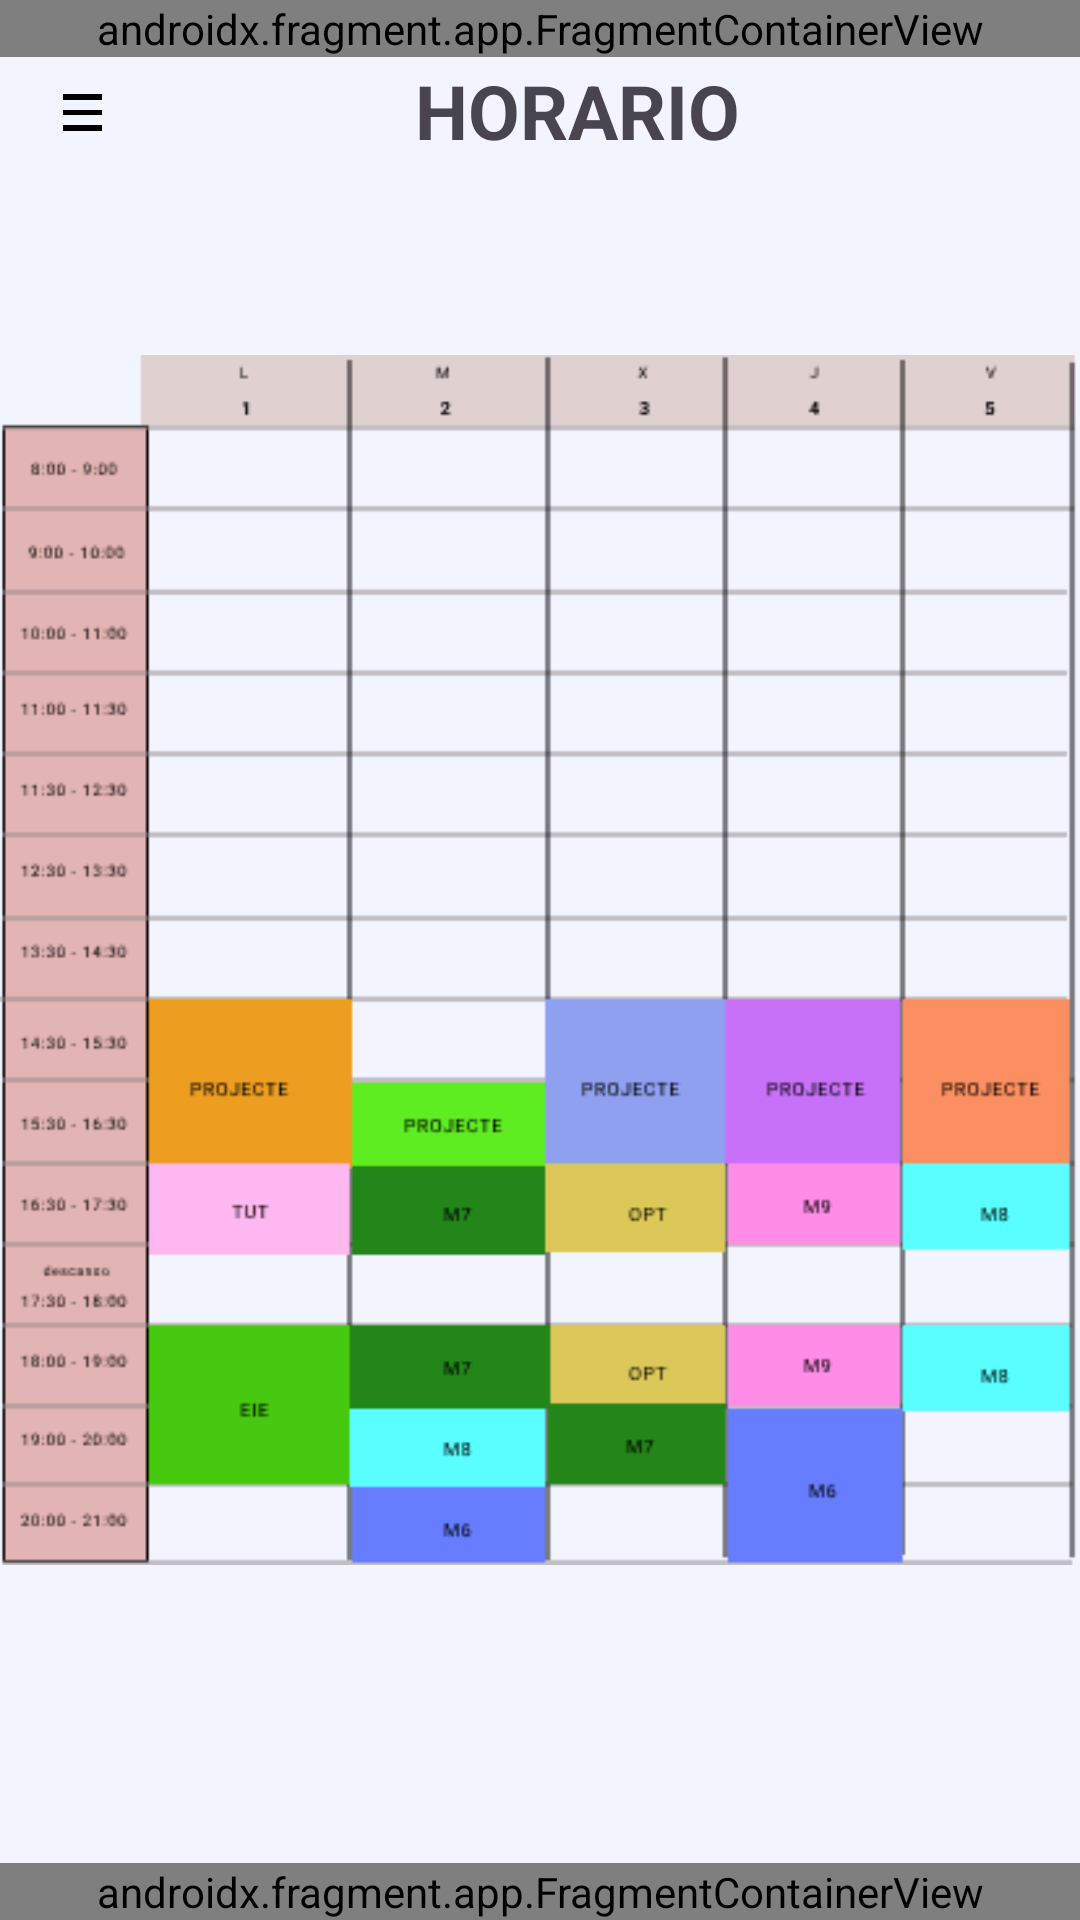

Icons on this 1080*1920 Android screen, each with the point to tap as [x,y]:
menu: [82,112]
